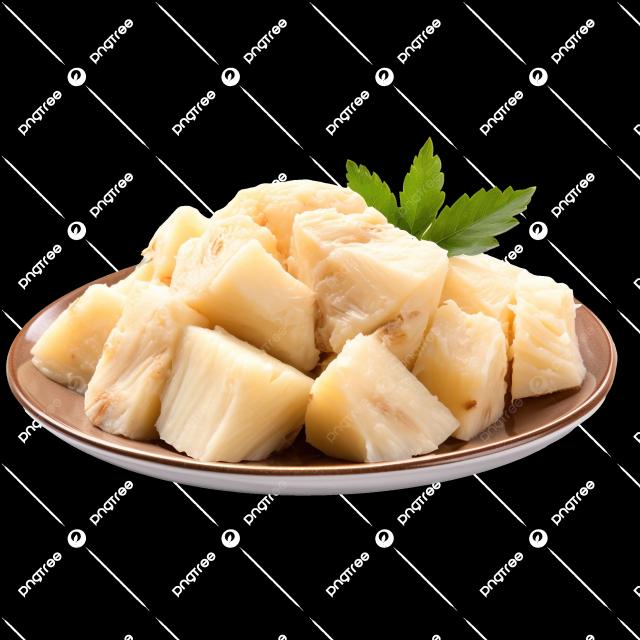yuca: (285, 203, 455, 372), (161, 321, 317, 475), (309, 336, 450, 464)
